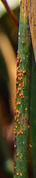Wheat: (15, 55, 30, 152)
